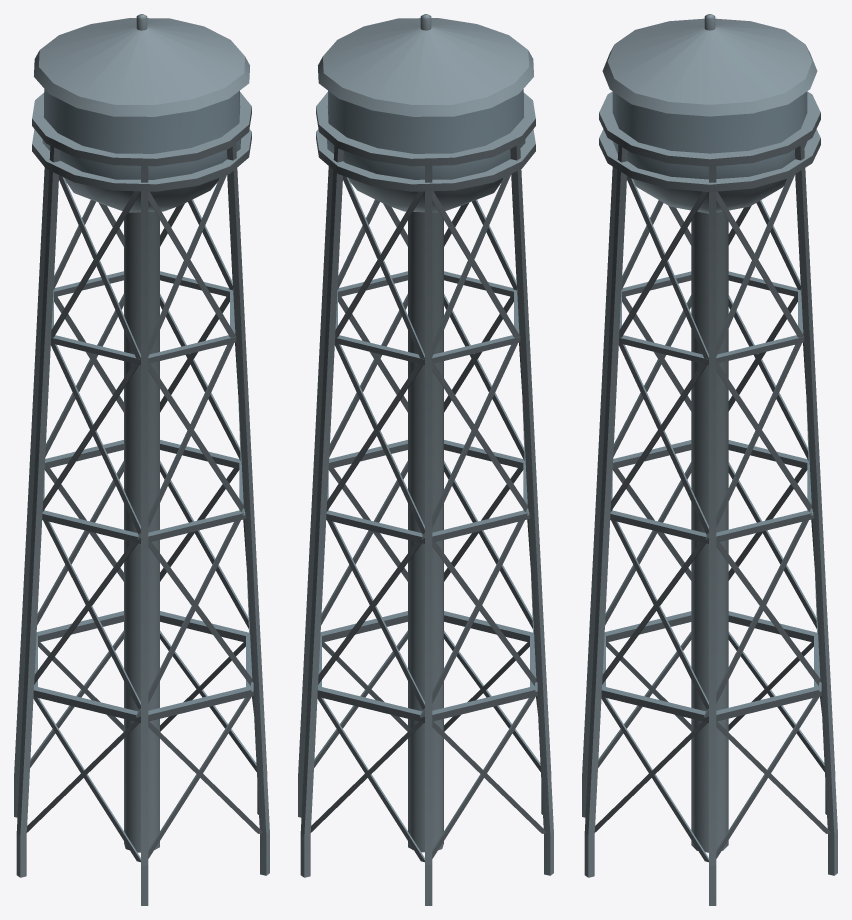
The model's file is buildings-farm-watertower_v1.glb.
3 renders of one model, left to right at view 1: azimuth 30°, elevation 25°; view 2: azimuth 150°, elevation 25°; view 3: azimuth 270°, elevation 25°, orthographic.
Visible parts, largest first — view 1: WaterTower.001; view 2: WaterTower.001; view 3: WaterTower.001.
Boxes of the visible parts, x1,y1,x2,y2 form: WaterTower.001: (14,14,269,905); WaterTower.001: (298,14,553,905); WaterTower.001: (582,14,837,905).
Size of the model in its own units: 13.52 by 42.96 by 12.01.
